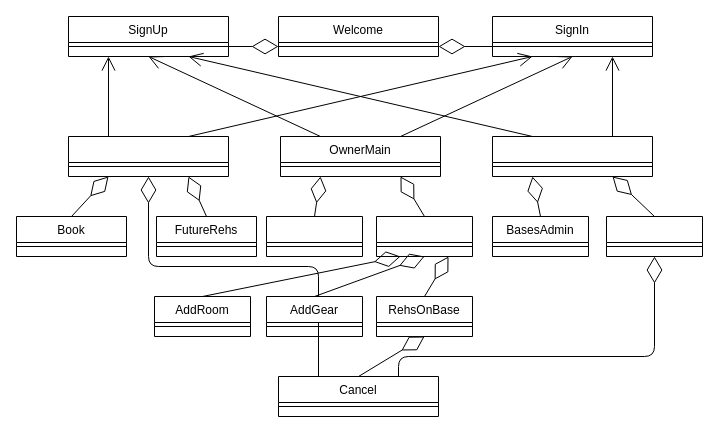
Some shapes in this 719 by 433 pixel diagram are drawn without their labels. Here are the shapes that lost their labels. From the top down, the box of each, then its label:
(68, 136, 228, 176): MusicianMain
(492, 136, 652, 176): AdminMain
(266, 216, 362, 256): RegBase
(376, 216, 472, 256): BaseInfo
(606, 216, 702, 256): RehsByDate
